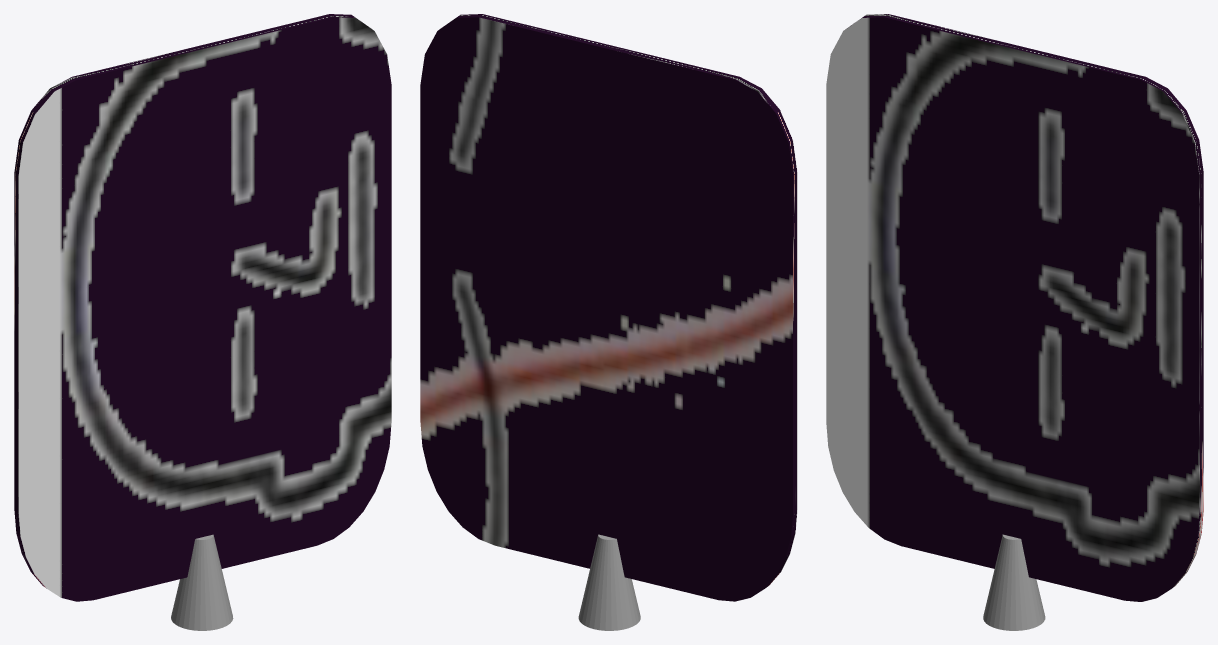
Rendered from padleftMain2.fbx.
The picture shows the model from 3 angles, left to right: view 1: azimuth 30°, elevation 25°; view 2: azimuth 150°, elevation 25°; view 3: azimuth 330°, elevation 25°; orthographic projection.
Parts seen in each view (by area): view 1: Cube; view 2: Cube; view 3: Cube.
Boxes of the visible parts, x1,y1,x2,y2 form: Cube: [14, 14, 391, 630]; Cube: [420, 14, 797, 630]; Cube: [826, 14, 1203, 630].
Size of the model in its own units: 21.62 by 218 by 149.
